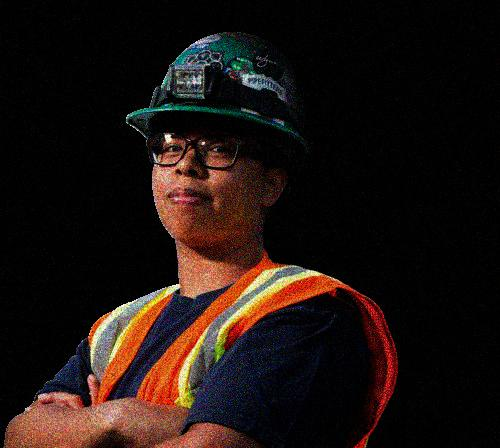helmet: (124, 30, 314, 243)
